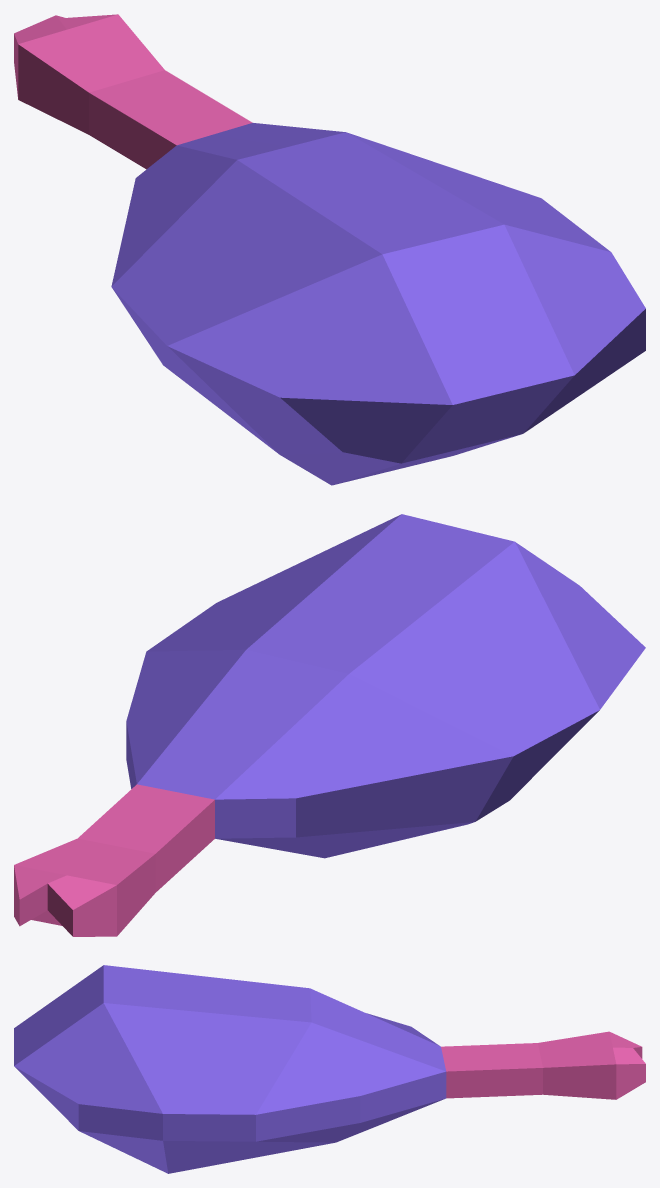
The model's file is Food.fbx.
3 renders of one model, top to bottom at view 1: azimuth 30°, elevation 25°; view 2: azimuth 150°, elevation 25°; view 3: azimuth 270°, elevation 25°, orthographic. The views are drawn at different scales.
Parts seen in each view (by area): view 1: Cube; view 2: Cube; view 3: Cube.
Boxes of the visible parts, <box> form: Cube: <box>14,14,645,485</box>; Cube: <box>14,514,645,936</box>; Cube: <box>14,965,645,1173</box>.
Size of the model in its own units: 236 by 140 by 470.
